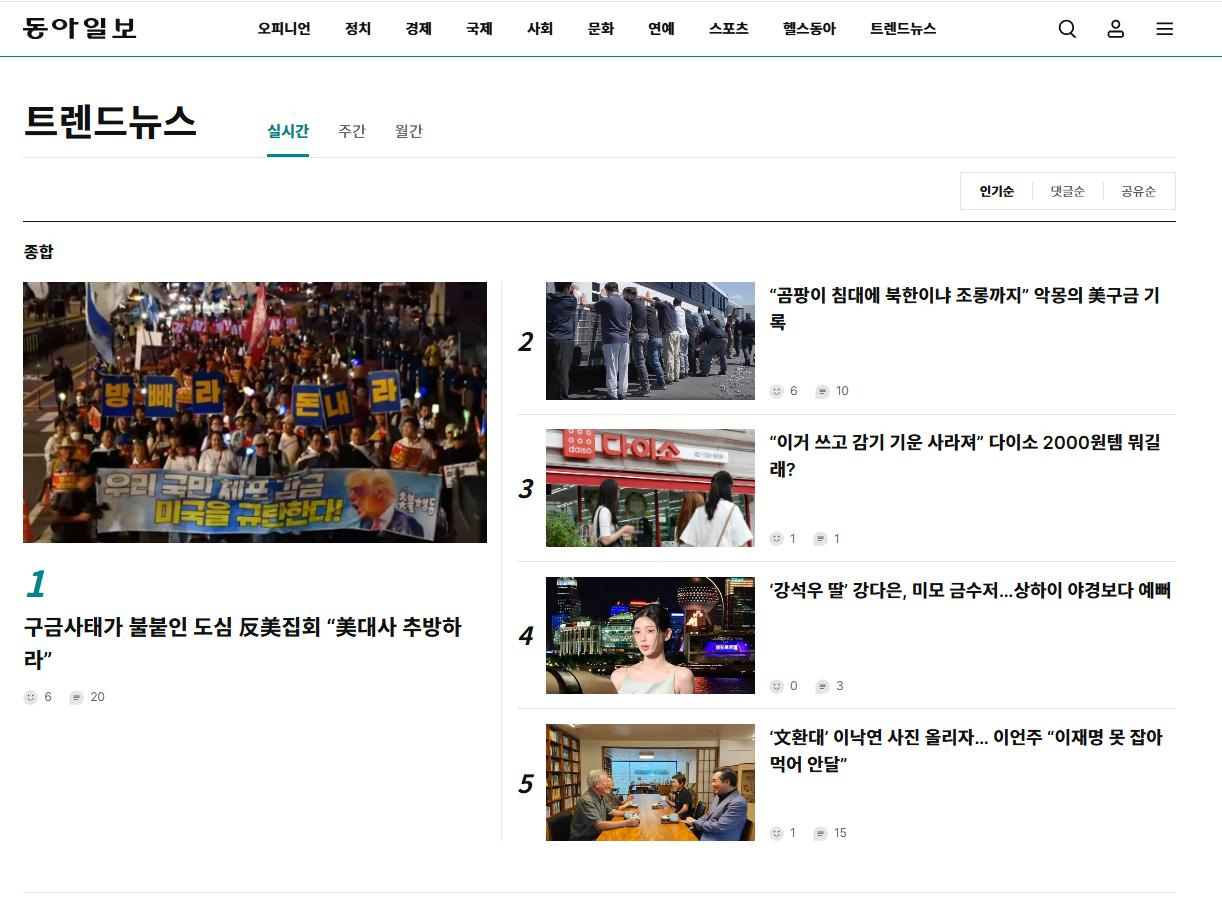button: (863, 6, 954, 56), (254, 110, 320, 165), (777, 7, 850, 52), (250, 10, 323, 52), (699, 6, 764, 52), (516, 7, 569, 57), (960, 173, 1026, 212), (381, 110, 442, 150), (1110, 174, 1173, 212), (1037, 176, 1103, 212), (460, 4, 507, 53), (394, 7, 444, 52), (644, 4, 686, 54), (581, 4, 621, 53), (1151, 10, 1194, 53), (331, 110, 375, 152), (336, 9, 377, 53), (1099, 12, 1137, 52), (1049, 12, 1087, 49)
